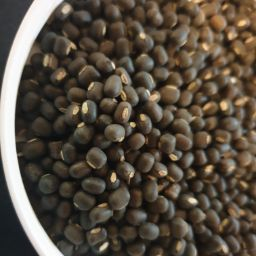Black Gram(urad daal): (59, 5, 254, 256), (32, 27, 144, 248), (154, 12, 246, 256), (74, 58, 244, 174)
